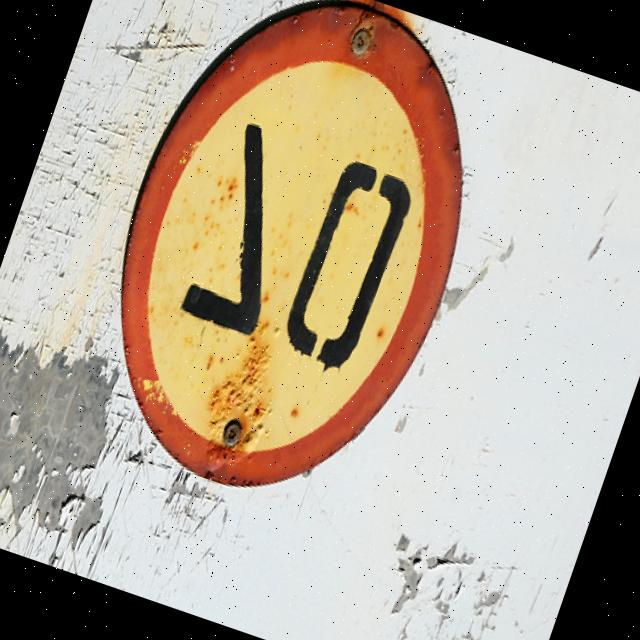speed_limit_70: (48, 0, 534, 541)
